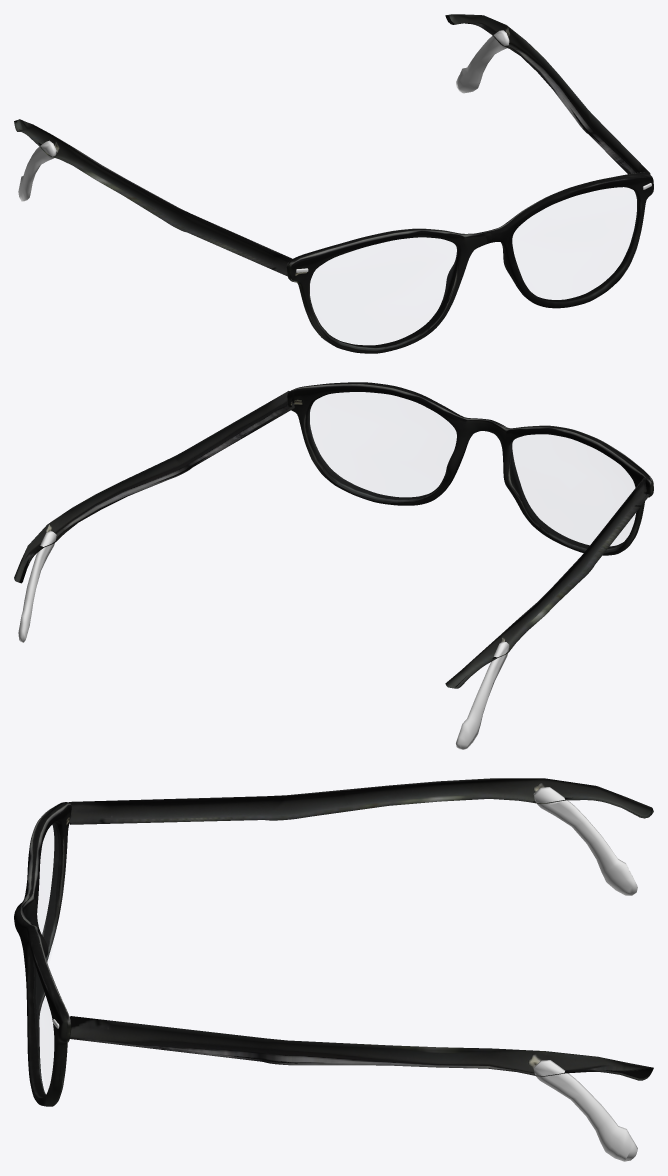
File: kacamata1.gltf
3 renders of one model, top to bottom at view 1: azimuth 30°, elevation 25°; view 2: azimuth 150°, elevation 25°; view 3: azimuth 270°, elevation 25°, orthographic. The views are drawn at different scales.
Visible parts, largest first — view 1: Cube, Cube.001, Cube.002; view 2: Cube.001, Cube, Cube.002; view 3: Cube.001, Cube, Cube.002.
Part boxes in pixels (left/top/right/bottom): Cube: left=286, top=172, right=653, bottom=353; Cube.001: left=14, top=14, right=650, bottom=276; Cube.002: left=18, top=30, right=509, bottom=201; Cube.001: left=14, top=391, right=650, bottom=688; Cube: left=287, top=382, right=653, bottom=555; Cube.002: left=18, top=531, right=509, bottom=749; Cube.001: left=69, top=778, right=653, bottom=1080; Cube: left=14, top=802, right=71, bottom=1106; Cube.002: left=533, top=787, right=637, bottom=1161.
Size of the model in its own units: 3.55 by 0.8677 by 3.47.
4 materials, 2 textured.
